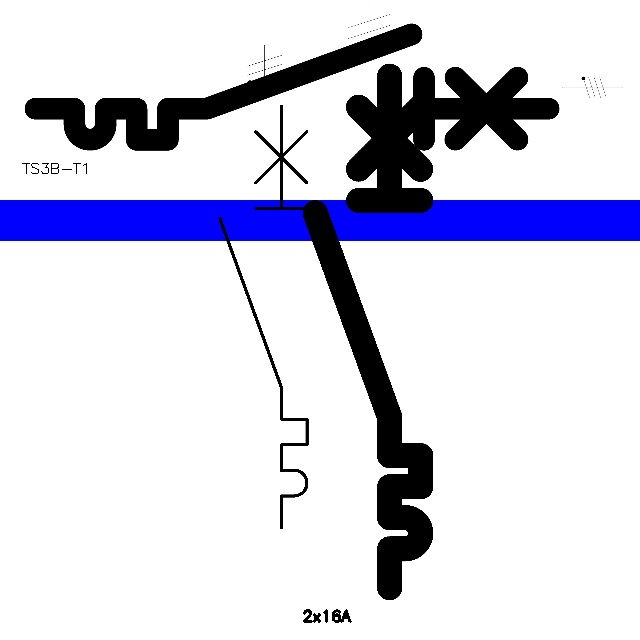interruptor_termomagnetico: (22, 21, 562, 153), (302, 62, 434, 600), (209, 95, 318, 539)
